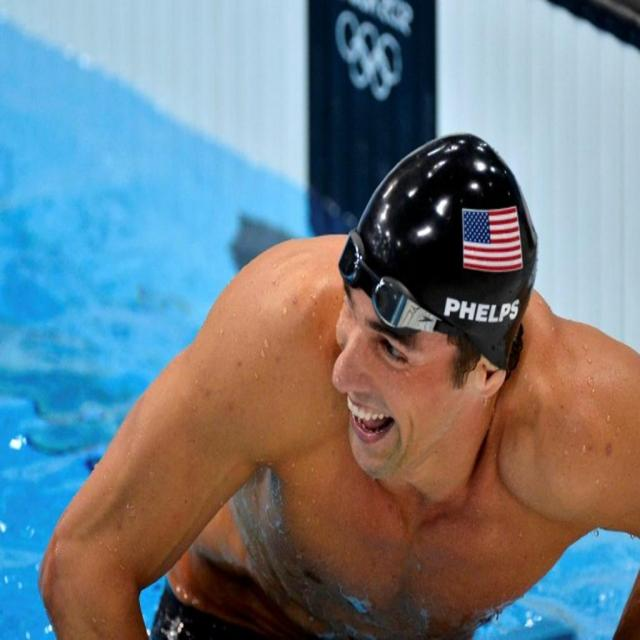nomask: (332, 250, 440, 480)
